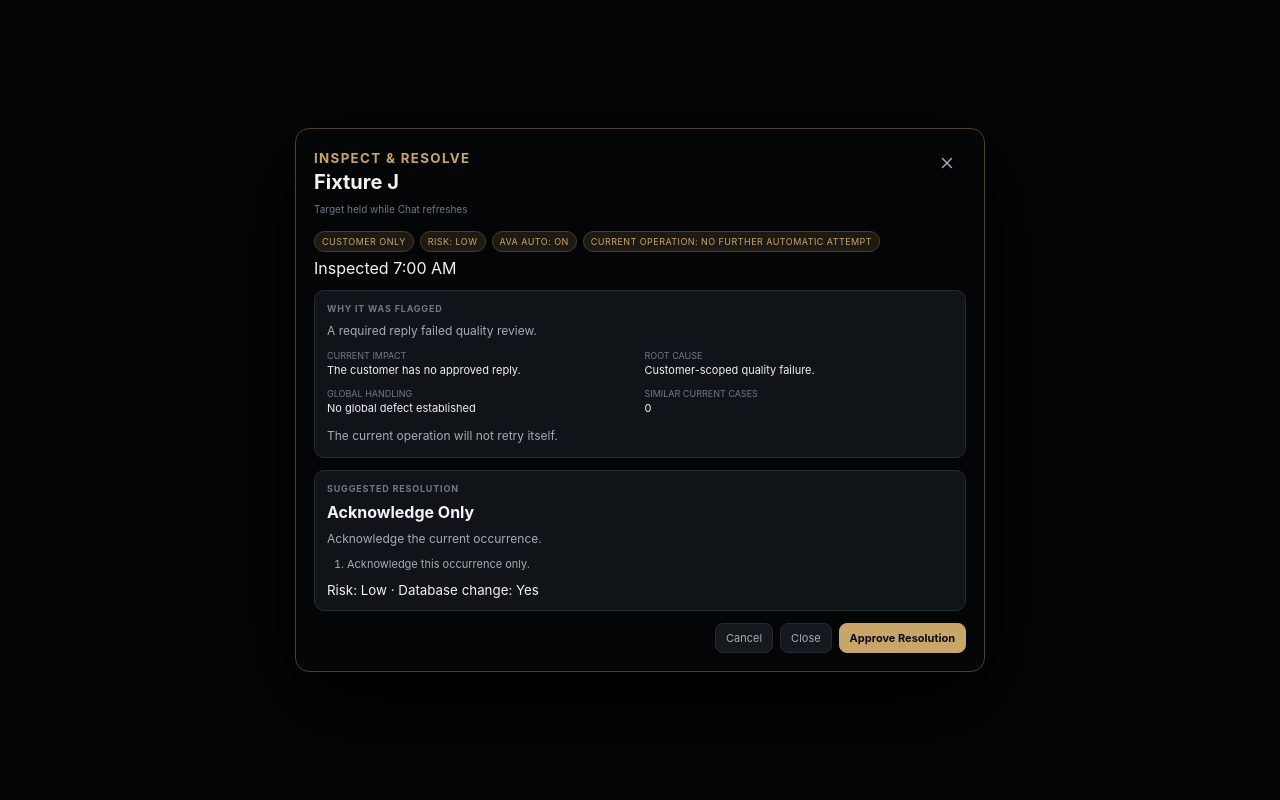
Scenario: Inspect & Resolve › requires final confirmation and executes only the exact persisted plan
The image size is (1280, 800).
Click the button "Approve Resolution" at {"x": 902, "y": 638}, box [839,623,966,653]
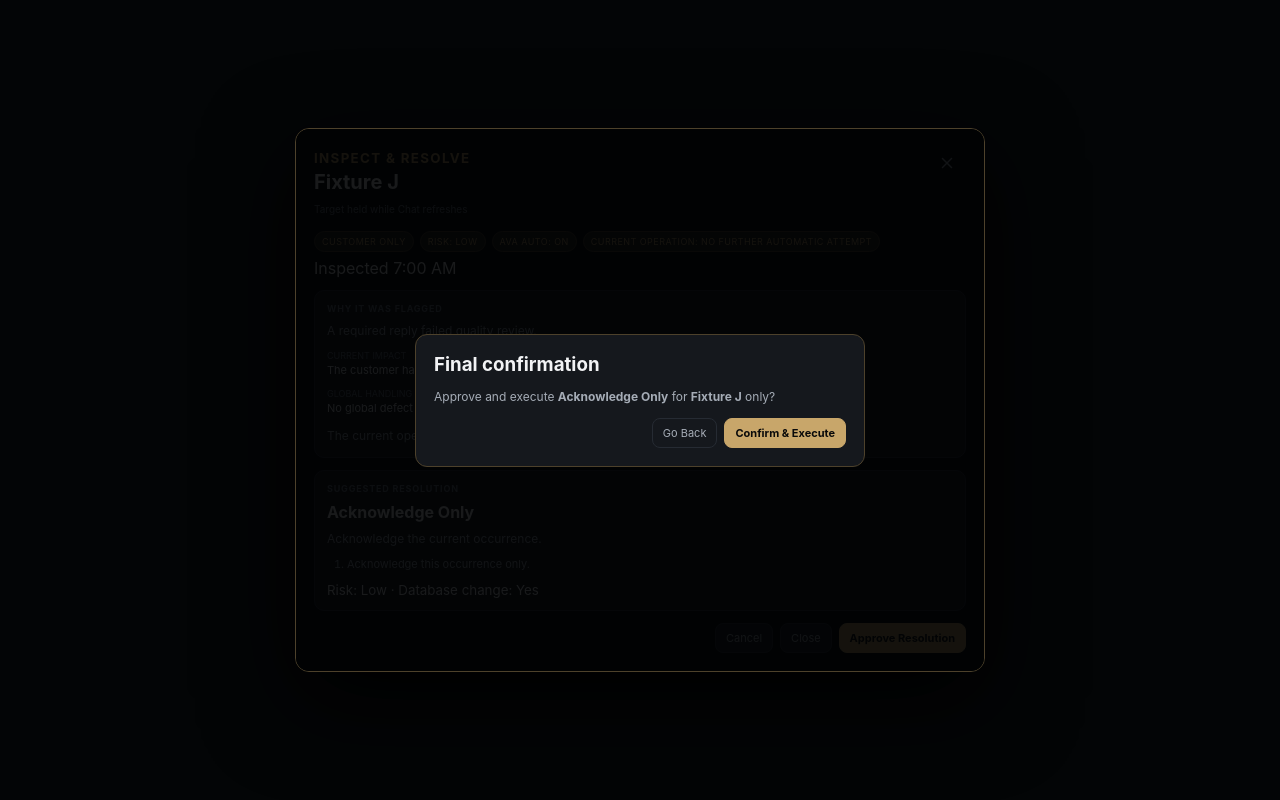
Expected: the dialog shows "Fixture J only", [296,129,984,671]
Click the button "Confirm & Execute" at {"x": 785, "y": 432}, box [724,418,846,448]
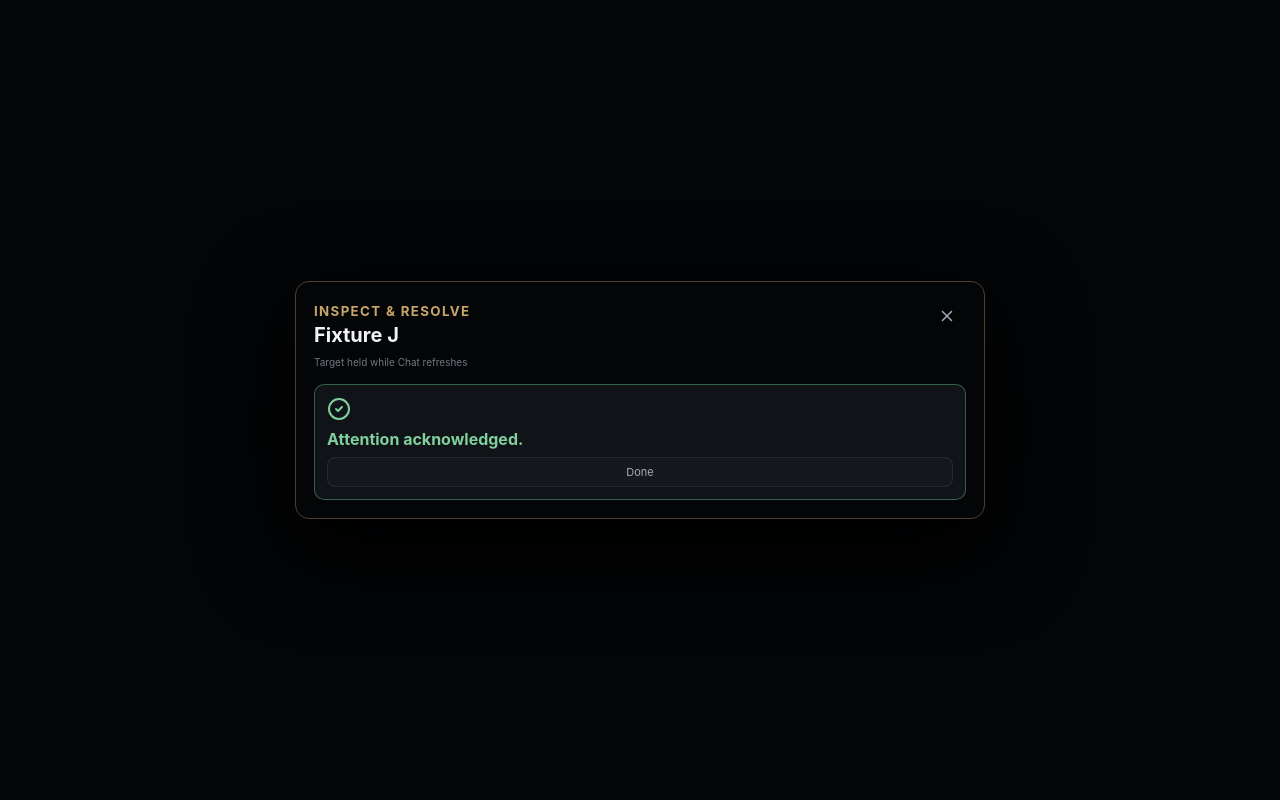
Expected: the text "Attention acknowledged." is shown, [327,429,523,449]
